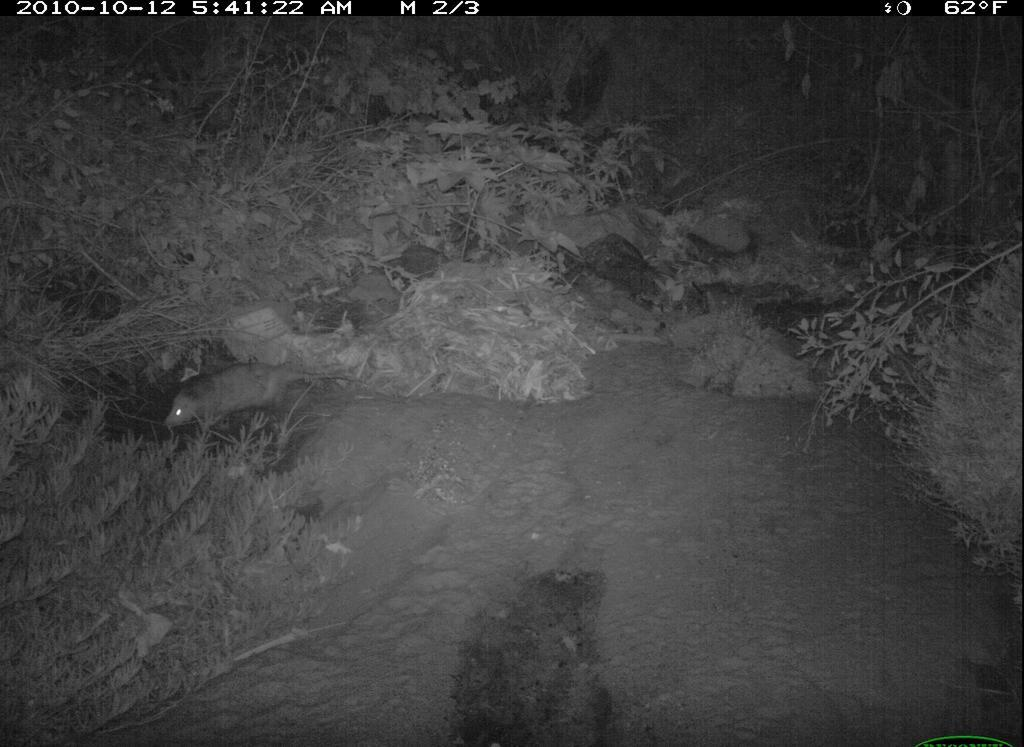opossum: (154, 349, 361, 442)
